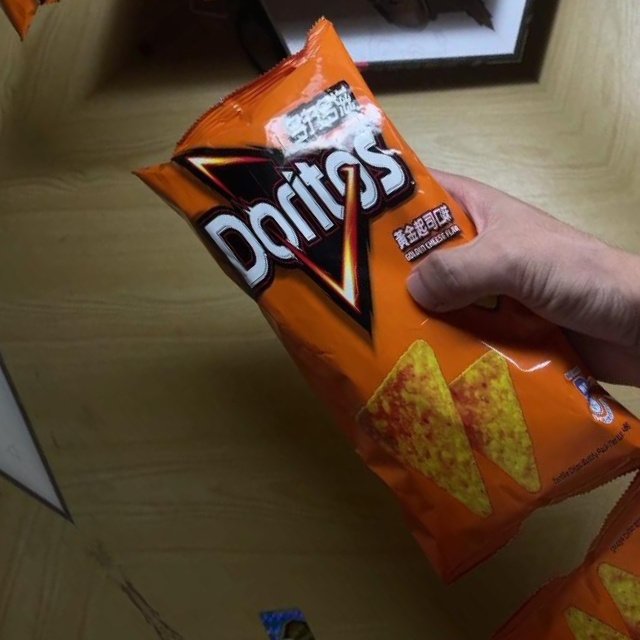Doritos: (107, 7, 640, 613)
